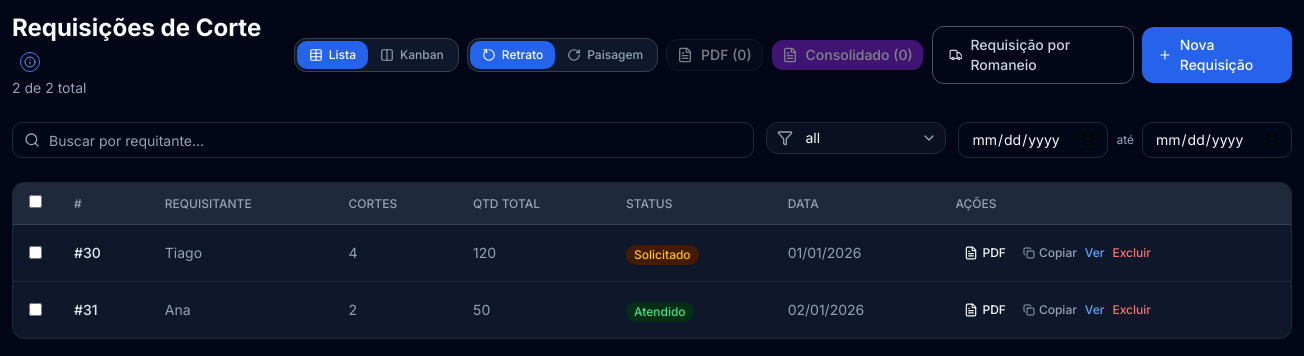
Test case: ListaRequisicoesCortePage › filtra a lista pela busca
The image size is (1304, 356).
Check: the text "Tiago" is shown, box left=149, top=224, right=332, bottom=282
In the field with placeholder "Buscar por requitante...": x=383, y=140 left=12, top=122, right=754, bottom=158, type "tiago"
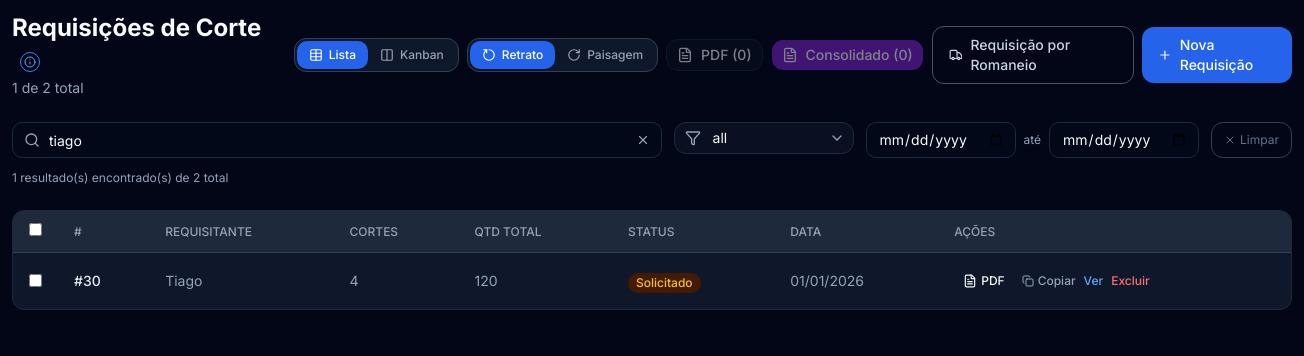
Check: the text "Tiago" is shown, box left=149, top=252, right=334, bottom=309
Check: the text "Ana" is gone
